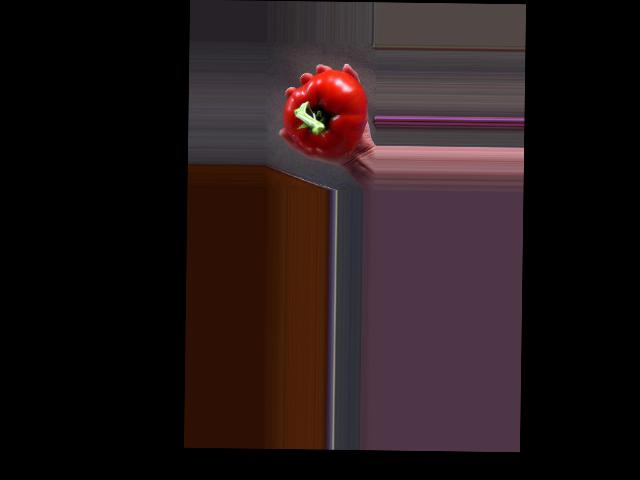tomato: (282, 69, 368, 157)
